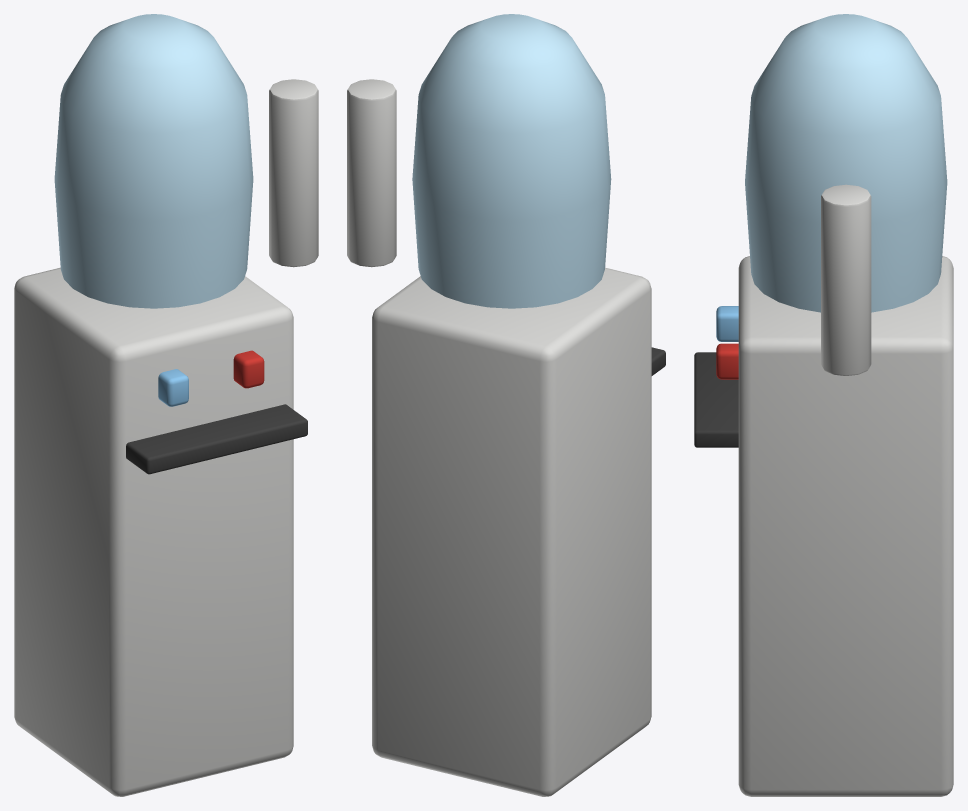
File: cooler.glb
3 views of the same model, side by side, from view 1: azimuth 30°, elevation 25°; view 2: azimuth 150°, elevation 25°; view 3: azimuth 270°, elevation 25° (orthographic).
Parts seen in each view (by area): view 1: stand, jug, cuptube, tray, tap1, tap-1; view 2: stand, jug, cuptube; view 3: stand, jug, cuptube, tray, tap1, tap-1.
Part boxes in pixels (left/top/right/bottom): stand: left=14, top=267, right=293, bottom=796; jug: left=54, top=14, right=253, bottom=308; cuptube: left=269, top=79, right=318, bottom=267; tray: left=126, top=404, right=307, bottom=474; tap1: left=233, top=350, right=264, bottom=388; tap-1: left=158, top=369, right=188, bottom=406; stand: left=372, top=267, right=651, bottom=796; jug: left=412, top=14, right=611, bottom=308; cuptube: left=347, top=79, right=396, bottom=267; stand: left=738, top=256, right=953, bottom=796; jug: left=745, top=14, right=947, bottom=312; cuptube: left=821, top=184, right=871, bottom=375; tray: left=694, top=352, right=738, bottom=447; tap1: left=716, top=343, right=738, bottom=379; tap-1: left=716, top=306, right=738, bottom=341.
Bounding box in the file's own units: 0.47 × 1.27 × 0.41.
